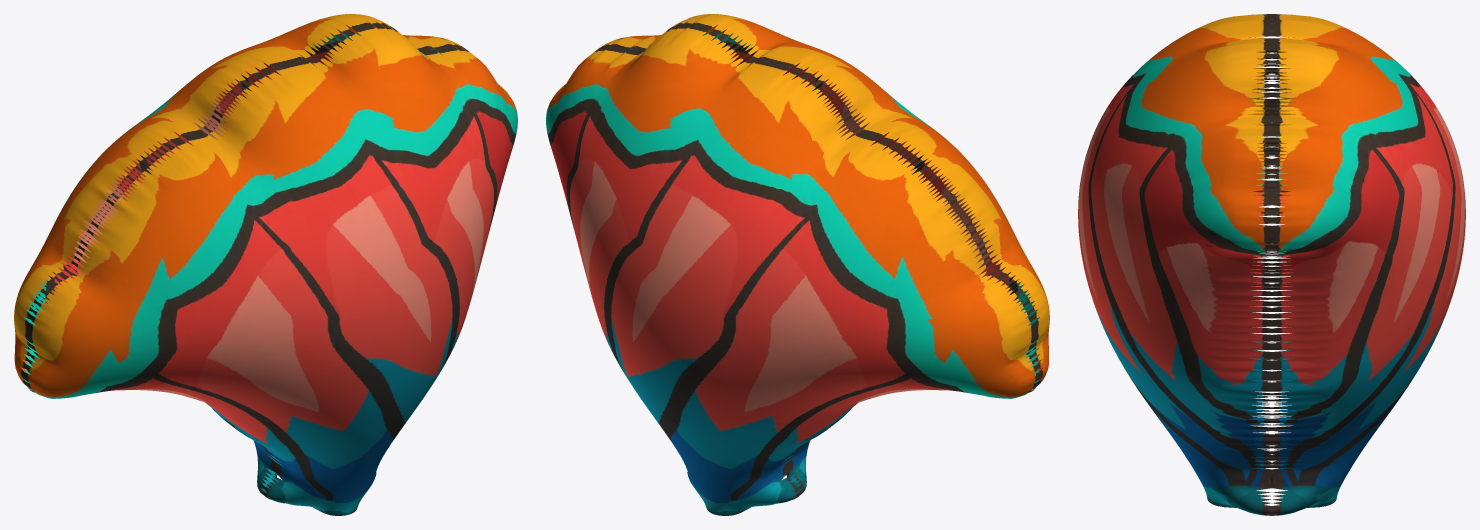
File: fan_coral.glb
3 renders of one model, left to right at view 1: azimuth 30°, elevation 25°; view 2: azimuth 150°, elevation 25°; view 3: azimuth 270°, elevation 25°, orthographic. The views are drawn at different scales.
Parts seen in each view (by area): view 1: fan_coral; view 2: fan_coral; view 3: fan_coral.
Part boxes in pixels (bbox=[...]): fan_coral: bbox=[14, 14, 517, 515]; fan_coral: bbox=[546, 14, 1049, 515]; fan_coral: bbox=[1078, 14, 1465, 515].
Size of the model in its own units: 0.989 by 0.8944 by 0.6594.
Materials: 1 (1 with a texture image).
